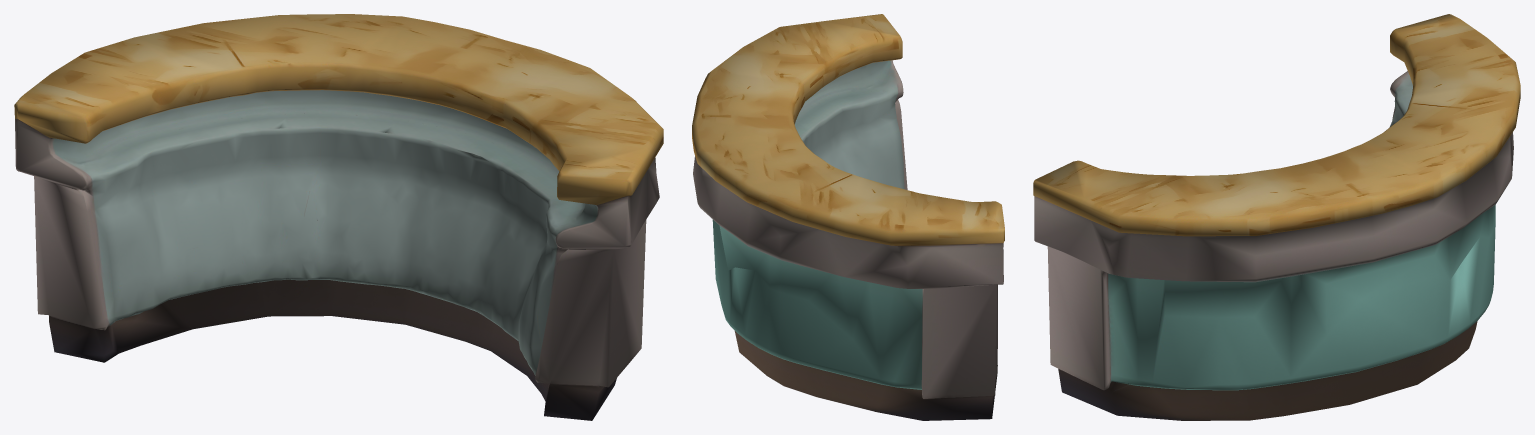
File: reception-desk.glb
3 views of the same model, side by side, from view 1: azimuth 30°, elevation 25°; view 2: azimuth 150°, elevation 25°; view 3: azimuth 270°, elevation 25° (orthographic). The views are drawn at different scales.
Parts seen in each view (by area): view 1: tripo_node_kodyurd-model-78____________________; view 2: tripo_node_kodyurd-model-78____________________; view 3: tripo_node_kodyurd-model-78____________________.
Boxes of the visible parts, x1,y1,x2,y2 form: tripo_node_kodyurd-model-78____________________: (14,14,663,420); tripo_node_kodyurd-model-78____________________: (692,14,1004,420); tripo_node_kodyurd-model-78____________________: (1033,14,1520,420).
Size of the model in its own units: 0.998 by 0.502 by 0.998.
Materials: 1 (1 with a texture image).
